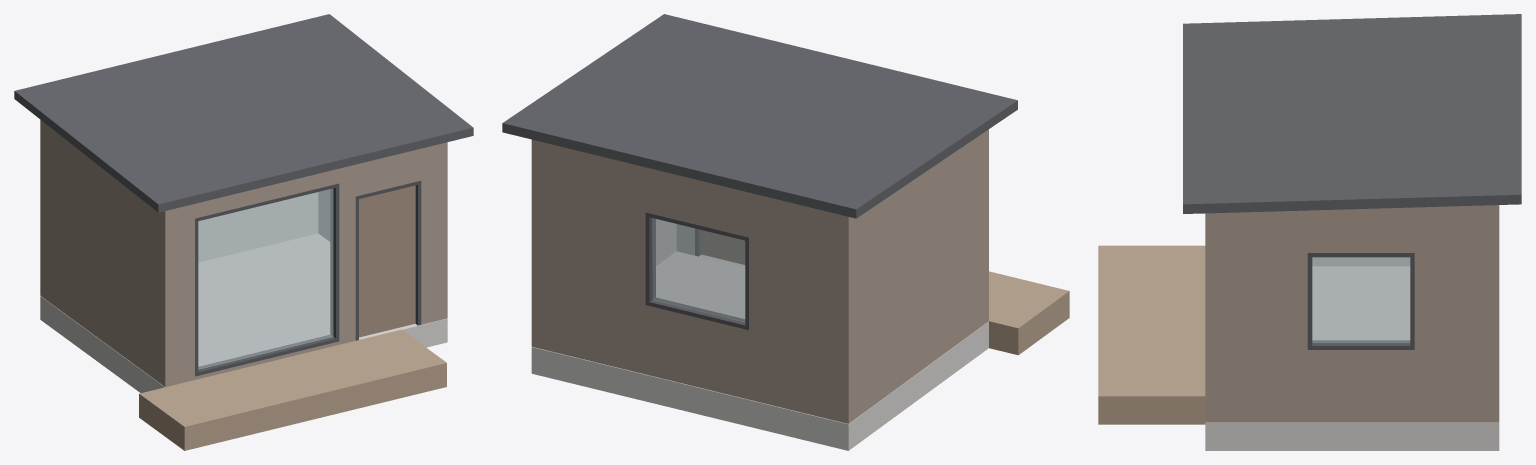
The model's file is pod-oficina.glb.
3 renders of one model, left to right at view 1: azimuth 30°, elevation 25°; view 2: azimuth 150°, elevation 25°; view 3: azimuth 270°, elevation 25°, orthographic. The views are drawn at different scales.
Parts seen in each view (by area): view 1: Losa de techo · Chapa techo, Ventana S1 · Vidrio, Muro O · Revestimiento madera, Deck 1 · Deck madera, Muro S · Revestimiento madera, Piso · Piso, Puerta S1 · Puerta madera, Muro N · Interior blanco, Ventana S1 · Aluminio negro, Platea · Hormigón, Puerta S1 · Aluminio negro, Muro N · Revestimiento madera (+1 smaller); view 2: Muro N · Revestimiento madera, Losa de techo · Chapa techo, Muro O · Revestimiento madera, Platea · Hormigón, Ventana N1 · Vidrio, Deck 1 · Deck madera, Piso · Piso, Ventana N1 · Aluminio negro, Muro S · Revestimiento madera, Puerta S1 · Puerta madera, Muro E · Interior blanco; view 3: Losa de techo · Chapa techo, Muro E · Revestimiento madera, Deck 1 · Deck madera, Platea · Hormigón, Ventana E1 · Vidrio, Piso · Piso, Muro N · Revestimiento madera, Muro S · Revestimiento madera, Ventana E1 · Aluminio negro, Muro O · Interior blanco.
Boxes of the visible parts, left/top/right/bottom form: Losa de techo · Chapa techo: left=14, top=14, right=473, bottom=212; Ventana S1 · Vidrio: left=198, top=188, right=333, bottom=369; Muro O · Revestimiento madera: left=46, top=124, right=159, bottom=382; Deck 1 · Deck madera: left=139, top=329, right=446, bottom=450; Muro S · Revestimiento madera: left=159, top=142, right=447, bottom=387; Piso · Piso: left=198, top=233, right=329, bottom=366; Puerta S1 · Puerta madera: left=359, top=185, right=415, bottom=337; Muro N · Interior blanco: left=198, top=192, right=317, bottom=262; Ventana S1 · Aluminio negro: left=195, top=183, right=339, bottom=376; Platea · Hormigón: left=40, top=296, right=447, bottom=392; Puerta S1 · Aluminio negro: left=355, top=180, right=421, bottom=340; Muro N · Revestimiento madera: left=40, top=120, right=45, bottom=299; Muro N · Revestimiento madera: left=531, top=139, right=854, bottom=423; Losa de techo · Chapa techo: left=502, top=14, right=1017, bottom=218; Muro O · Revestimiento madera: left=855, top=133, right=982, bottom=418; Platea · Hormigón: left=531, top=255, right=988, bottom=450; Ventana N1 · Vidrio: left=652, top=218, right=745, bottom=322; Deck 1 · Deck madera: left=989, top=271, right=1069, bottom=355; Piso · Piso: left=656, top=251, right=744, bottom=318; Ventana N1 · Aluminio negro: left=645, top=212, right=748, bottom=329; Muro S · Revestimiento madera: left=982, top=129, right=988, bottom=325; Puerta S1 · Puerta madera: left=702, top=230, right=744, bottom=264; Muro E · Interior blanco: left=656, top=219, right=676, bottom=265; Losa de techo · Chapa techo: left=1183, top=14, right=1521, bottom=213; Muro E · Revestimiento madera: left=1218, top=205, right=1485, bottom=422; Deck 1 · Deck madera: left=1098, top=245, right=1205, bottom=424; Platea · Hormigón: left=1205, top=422, right=1499, bottom=450; Ventana E1 · Vidrio: left=1312, top=257, right=1410, bottom=342; Piso · Piso: left=1312, top=266, right=1409, bottom=339; Muro N · Revestimiento madera: left=1486, top=205, right=1499, bottom=422; Muro S · Revestimiento madera: left=1205, top=213, right=1218, bottom=422; Ventana E1 · Aluminio negro: left=1307, top=253, right=1414, bottom=349; Muro O · Interior blanco: left=1312, top=257, right=1409, bottom=265.
Size of the model in its own units: 4.95 by 3.29 by 4.75.
